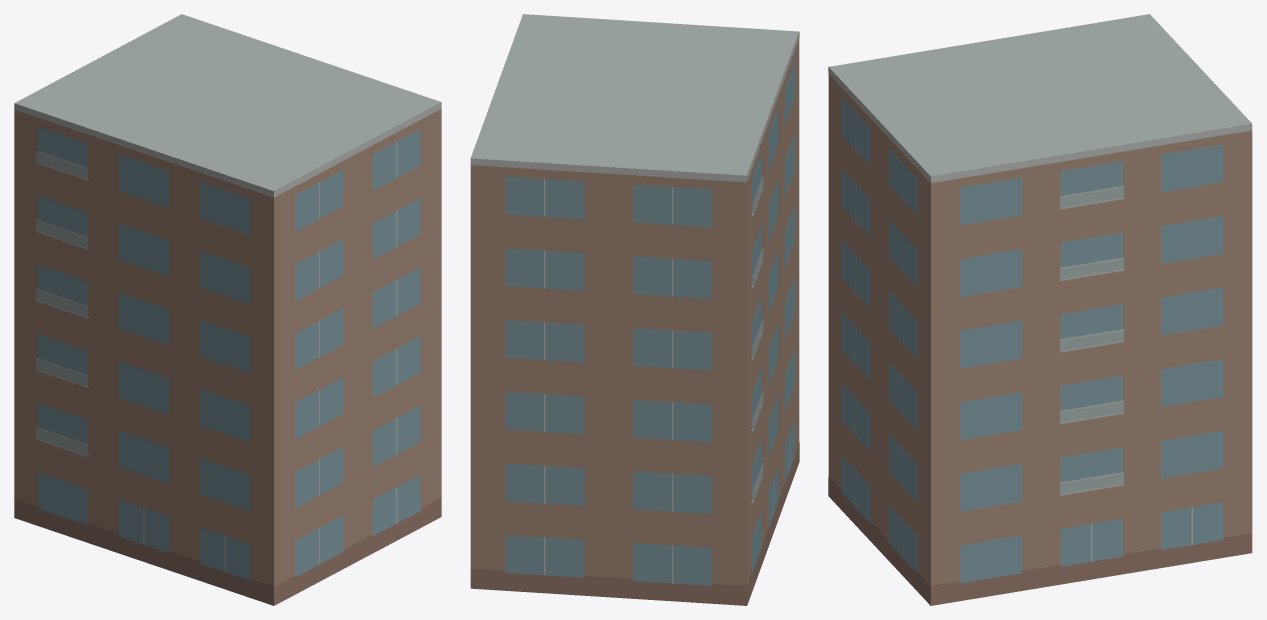
File: survey-upis-33045391.glb
3 renders of one model, left to right at view 1: azimuth 30°, elevation 25°; view 2: azimuth 150°, elevation 25°; view 3: azimuth 270°, elevation 25°, orthographic. The views are drawn at different scales.
Visible parts, largest first — view 1: survey-upis-33045391.tmp; view 2: survey-upis-33045391.tmp; view 3: survey-upis-33045391.tmp.
Boxes of the visible parts, box(x1,y1,x2,y2) form: survey-upis-33045391.tmp: box(14, 14, 441, 605); survey-upis-33045391.tmp: box(470, 14, 799, 605); survey-upis-33045391.tmp: box(828, 14, 1252, 605).
Size of the model in its own units: 12.68 by 15.6 by 13.96.
